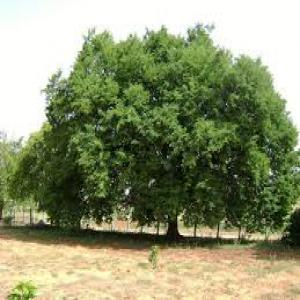Tree: (34, 17, 298, 241)
